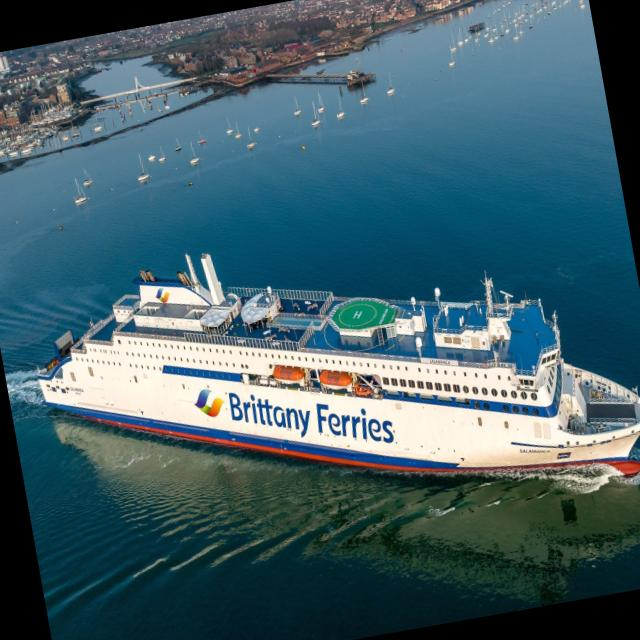boat: (0, 132, 640, 607)
